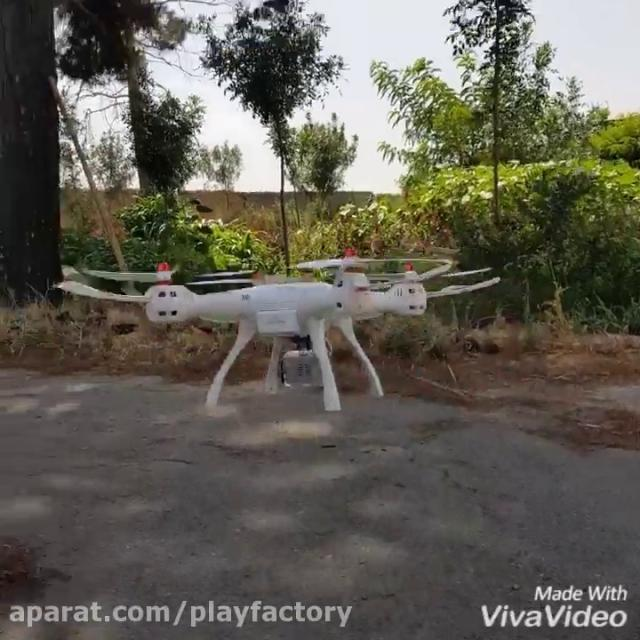drone: (49, 247, 503, 413)
